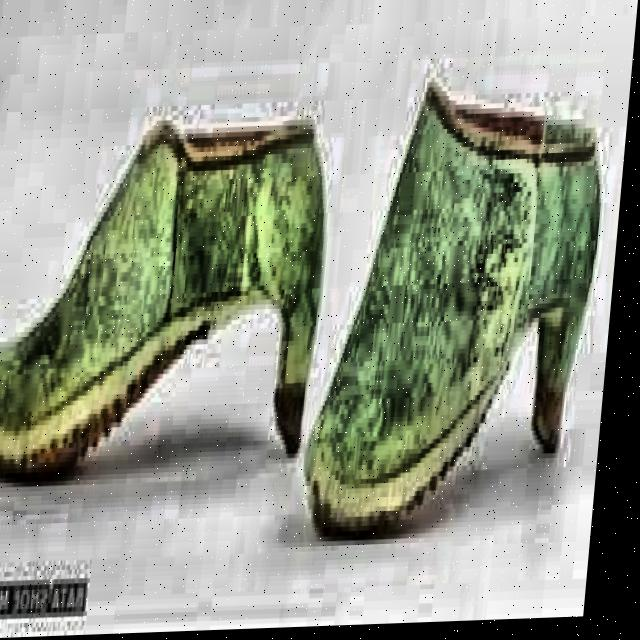shoes: (284, 47, 627, 595), (0, 77, 339, 556)
